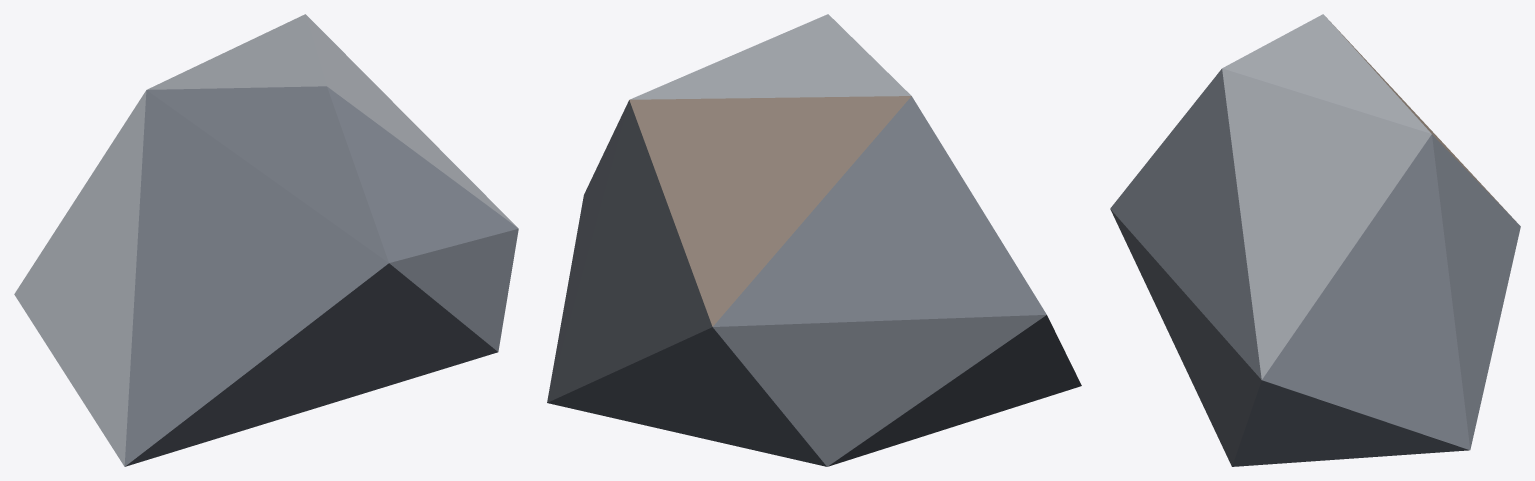
The model's file is rock_s1.glb.
3 views of the same model, side by side, from view 1: azimuth 30°, elevation 25°; view 2: azimuth 150°, elevation 25°; view 3: azimuth 270°, elevation 25° (orthographic). The views are drawn at different scales.
Visible parts, largest first — view 1: Body; view 2: Body; view 3: Body.
Boxes of the visible parts, bbox=[...] form: Body: bbox=[14, 14, 518, 466]; Body: bbox=[547, 14, 1081, 466]; Body: bbox=[1110, 14, 1520, 466].
Bounding box in the file's own units: 0.6633 × 0.42 × 0.5003.
